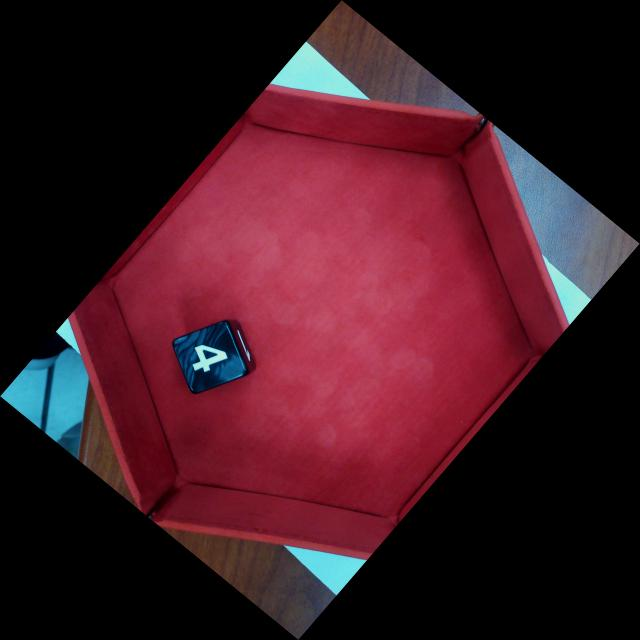dice: (177, 319, 251, 395)
